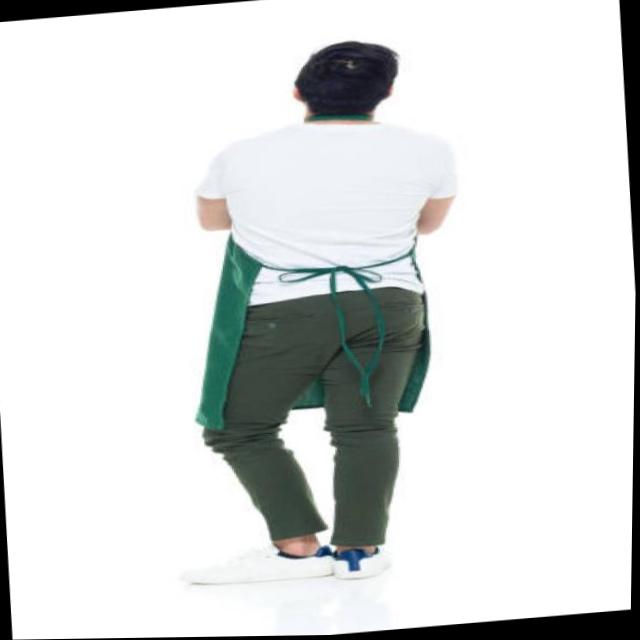no helmet: (289, 32, 405, 131)
